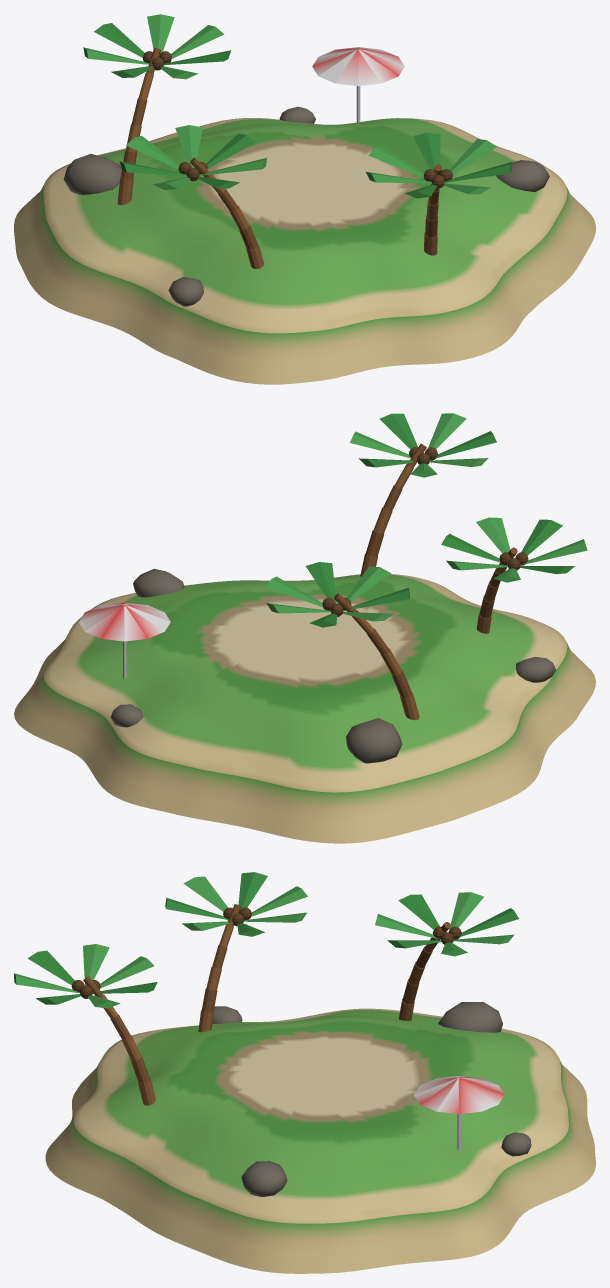
The model's file is island_east.glb.
3 views of the same model, one above another, from view 1: azimuth 30°, elevation 25°; view 2: azimuth 150°, elevation 25°; view 3: azimuth 270°, elevation 25° (orthographic).
Visible parts, largest first — view 1: Island_East_Beach; view 2: Island_East_Beach; view 3: Island_East_Beach.
Boxes of the visible parts, x1,y1,x2,y2 form: Island_East_Beach: [14, 14, 595, 384]; Island_East_Beach: [14, 413, 595, 843]; Island_East_Beach: [14, 872, 595, 1273].
Bounding box in the file's own units: 18.67 × 6.8 × 19.2.
